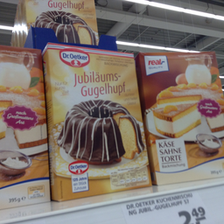cake: (41, 41, 155, 202), (137, 46, 224, 183)
